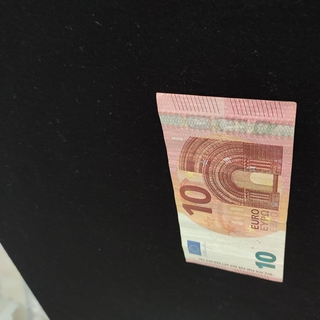10EUROFront: (155, 91, 297, 284)
